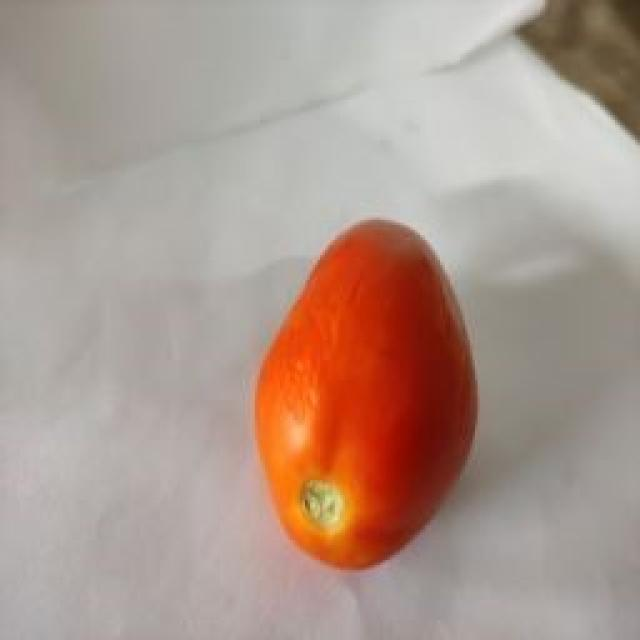Ripe: (245, 214, 482, 575)
